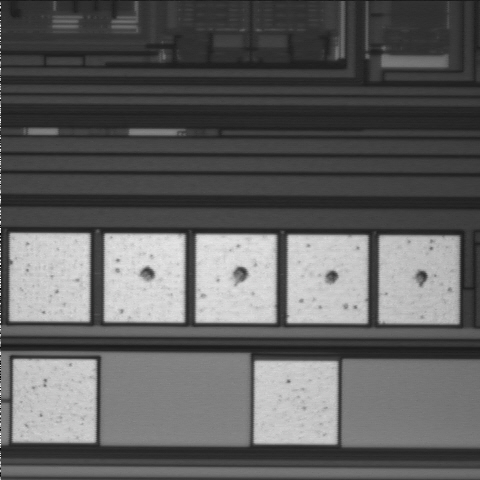pad: (10, 233, 90, 321), (105, 234, 185, 322), (196, 235, 276, 323), (288, 235, 367, 323), (13, 359, 96, 442), (254, 361, 337, 444), (379, 236, 458, 323)
